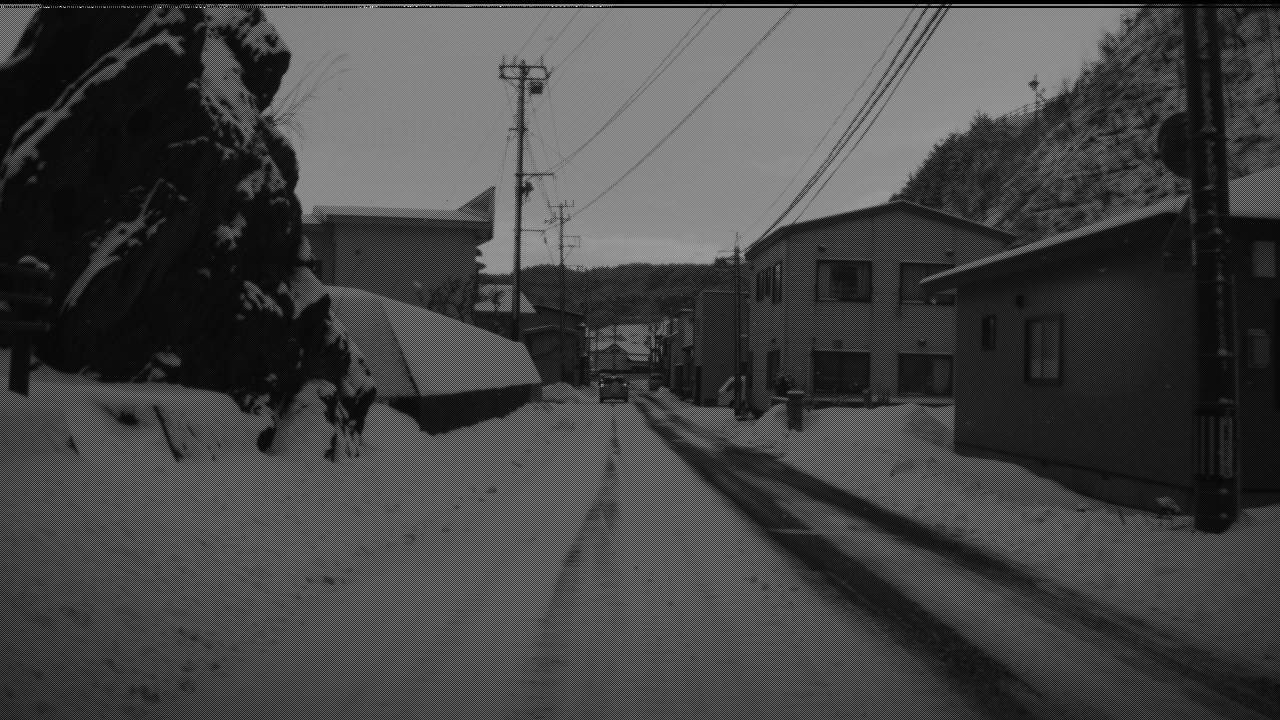pole: (36, 1, 102, 528), (754, 52, 770, 331), (539, 238, 547, 409), (716, 193, 723, 374)
